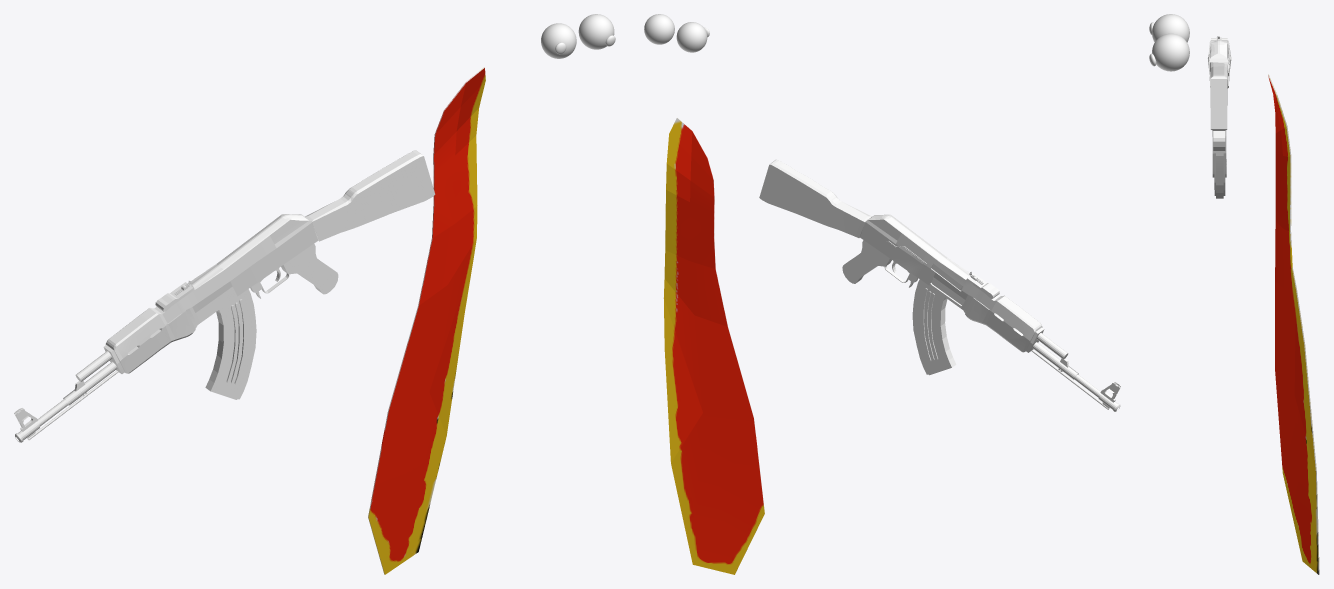
File: yonBot.glb
3 views of the same model, side by side, from view 1: azimuth 30°, elevation 25°; view 2: azimuth 150°, elevation 25°; view 3: azimuth 270°, elevation 25° (orthographic). The views are drawn at different scales.
Parts seen in each view (by area): view 1: Cube.002, ak7finished, Sphere (1), Sphere; view 2: Cube.002, ak7finished, Sphere, Sphere (1); view 3: Cube.002, ak7finished, Sphere (1), Sphere.
Boxes of the visible parts, bbox=[...] form: Cube.002: bbox=[368, 67, 485, 574]; ak7finished: bbox=[14, 150, 435, 442]; Sphere (1): bbox=[578, 14, 614, 49]; Sphere: bbox=[541, 23, 576, 58]; Cube.002: bbox=[663, 118, 764, 574]; ak7finished: bbox=[759, 159, 1120, 411]; Sphere: bbox=[676, 22, 707, 52]; Sphere (1): bbox=[644, 14, 674, 44]; Cube.002: bbox=[1268, 74, 1319, 574]; ak7finished: bbox=[1208, 36, 1231, 198]; Sphere (1): bbox=[1152, 33, 1189, 71]; Sphere: bbox=[1152, 14, 1189, 42].
Bounding box in the file's own units: 1.55 × 1.47 × 0.375.
Materials: 8 (1 with a texture image).
